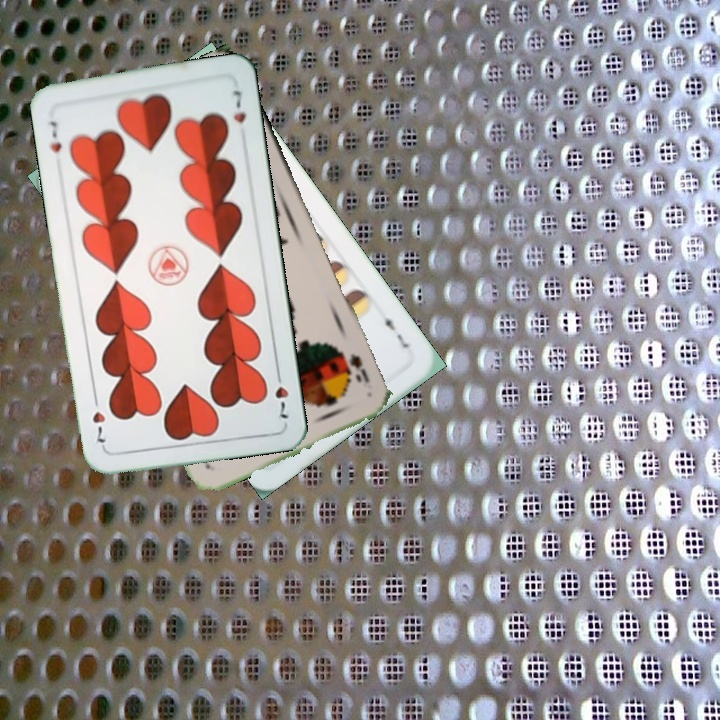E7: (378, 307, 412, 351)
H7: (271, 365, 292, 421), (45, 116, 64, 155)
SO: (345, 349, 373, 385)
